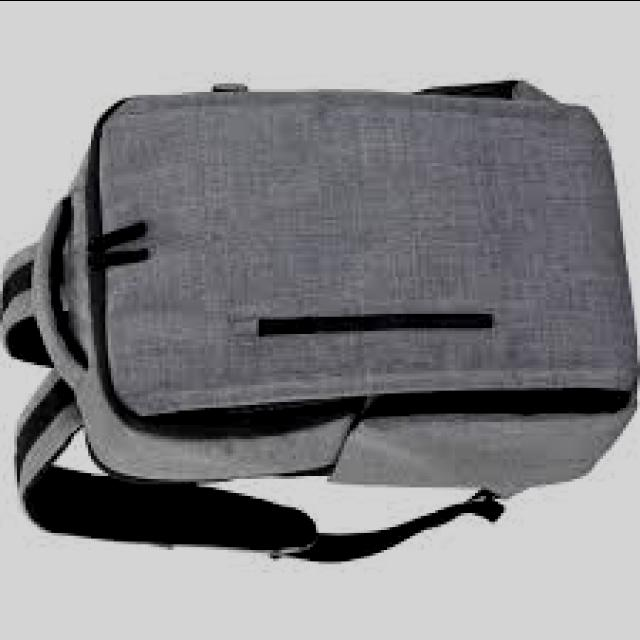backpack: (1, 81, 638, 565)
